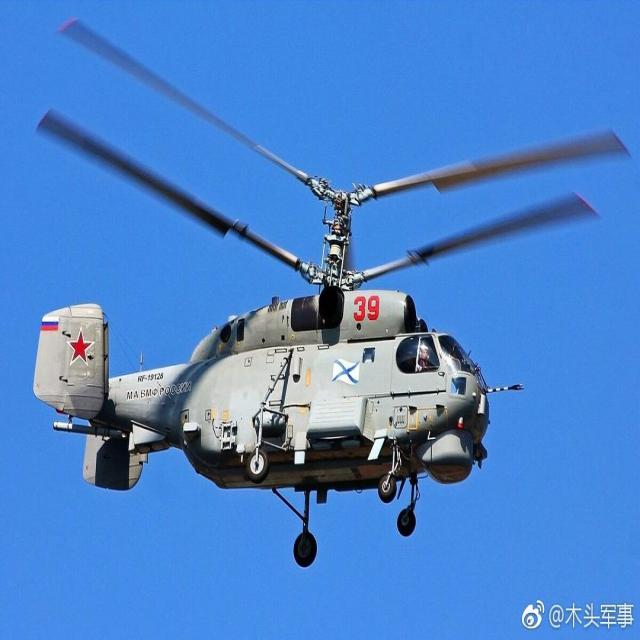MIL_HELO: (14, 12, 640, 573)
